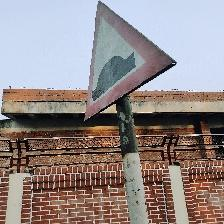Speed-breaker: (84, 0, 177, 121)
